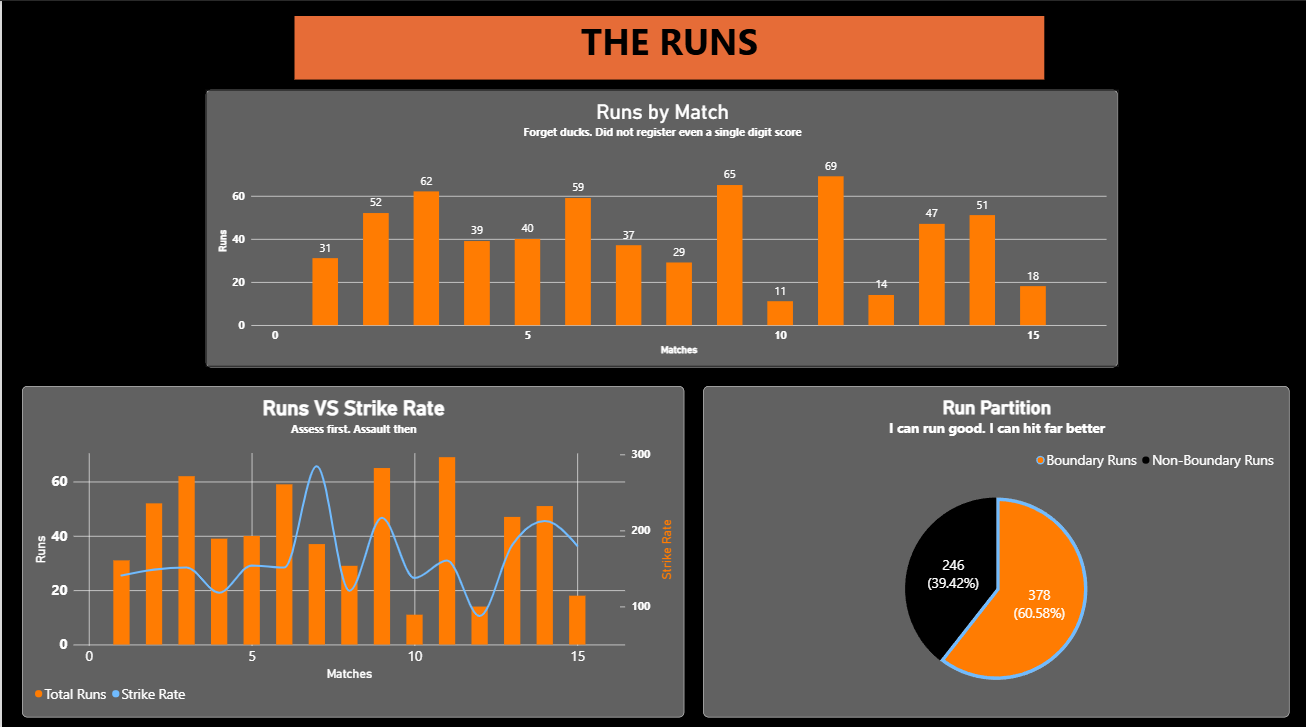

What the dashboard file says about the page in this screenshot:
{"tool":"powerbi","page":{"name":"THE RUNS","canvas":[1920,1080],"ordinal":1},"visuals":[{"type":"clusteredColumnChart","title":"Runs by Match","fields":{"Category":["Matches.Match"],"Y":["Measures_Table.Total Runs"]},"box":[300,130.7,1343.6,408.6],"z":0},{"type":"lineClusteredColumnComboChart","title":"Runs VS Strike Rate","fields":{"Category":["Matches.Match"],"Y":["Measures_Table.Total Runs"],"Y2":["Measures_Table.Strike Rate"]},"box":[29.4,566.9,975.5,487.7],"z":1000},{"type":"pieChart","title":"Run Partition ","fields":{"Category":["Run Construction.Type"],"Y":["Measures_Table.Run Construction Value"]},"box":[1032.5,566.9,863.2,487.7],"z":2000},{"type":"textbox","box":[430.7,22.1,1104.3,93.9],"z":3000}]}

Visuals, with their boxes in screenshot pixels (x1, y1, x2, y2), scaled from the page's 1920x1080 canvas onto the 1306x727 screenshot:
"Runs by Match" clusteredColumnChart: locate(204, 88, 1118, 363)
"Runs VS Strike Rate" lineClusteredColumnComboChart: locate(20, 382, 684, 710)
"Run Partition " pieChart: locate(702, 382, 1289, 710)
textbox: locate(293, 15, 1044, 78)
